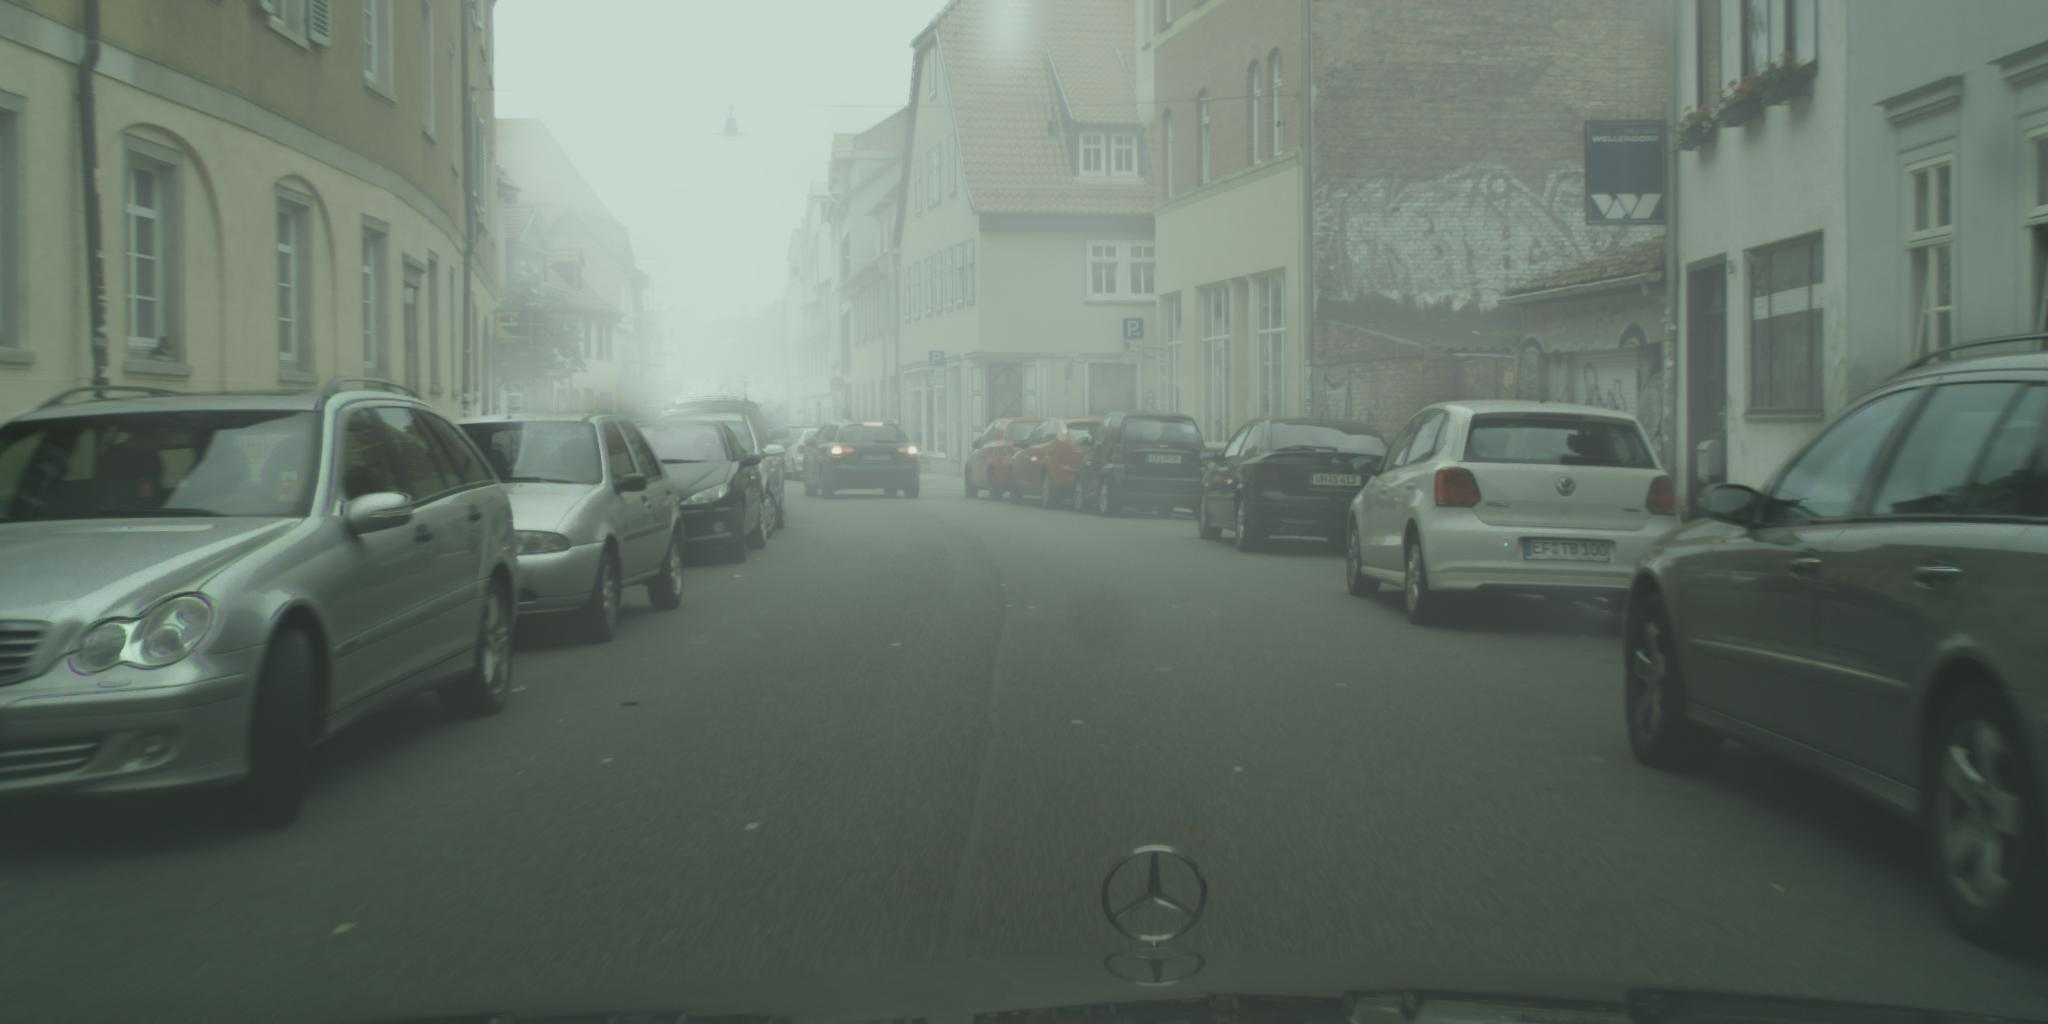car: (1622, 333, 2048, 959), (1, 376, 525, 833), (1348, 401, 1690, 628), (434, 414, 686, 647), (1199, 417, 1394, 560), (633, 422, 767, 566), (656, 413, 788, 541), (1072, 411, 1216, 521), (1008, 417, 1114, 509), (803, 421, 921, 502), (661, 397, 792, 468), (965, 419, 1050, 502), (782, 428, 824, 482), (777, 424, 825, 457)
